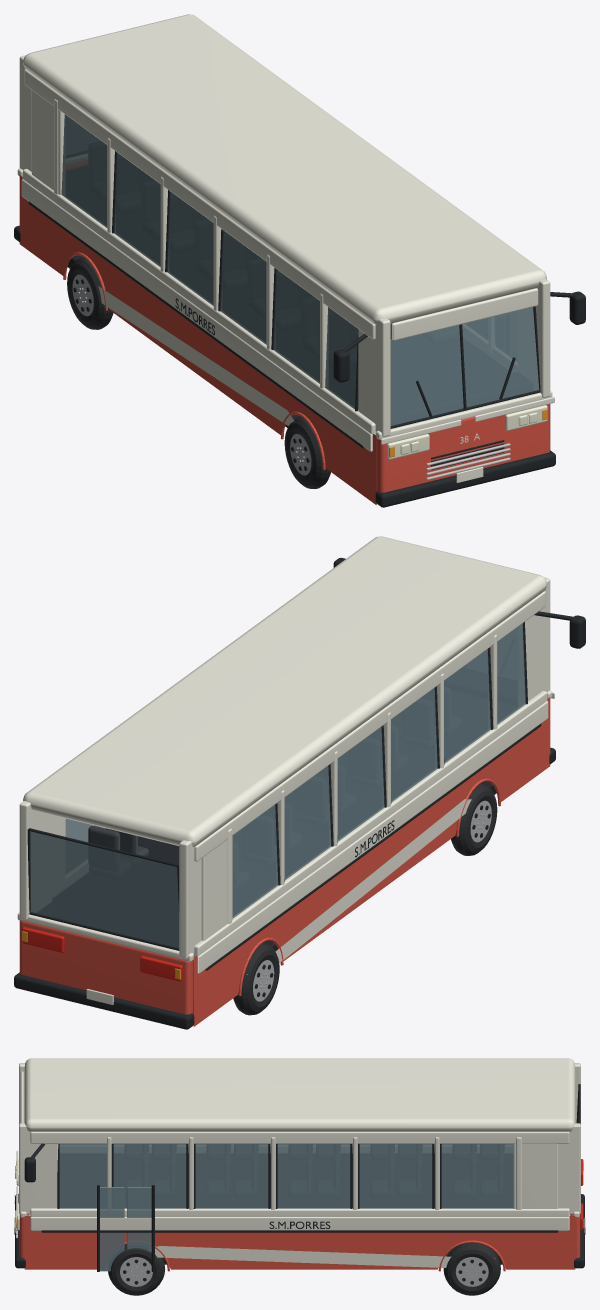
Rendered from urban_bus.glb.
3 views of the same model, one above another, from view 1: azimuth 30°, elevation 25°; view 2: azimuth 150°, elevation 25°; view 3: azimuth 270°, elevation 25° (orthographic). The views are drawn at different scales.
Visible parts, largest first — view 1: Placa, Cristal real, Chapa lateral, Bastidor, Torus.012, Torus.014, Faro delantero, Lamina de parrilla; view 2: Placa, Cristal real, Chapa lateral, Bastidor, Torus.014, Torus.012, Faro trasero, Asiento; view 3: Placa, Cristal real, Chapa lateral, Bastidor, Torus.015, Torus.013, Cylinder.008, Cylinder.007.
Boxes of the visible parts, box(x1,y1,x2,y2) form: Placa: box(17, 14, 554, 482); Cristal real: box(61, 114, 539, 425); Chapa lateral: box(19, 175, 550, 504); Bastidor: box(14, 151, 585, 507); Torus.012: box(284, 416, 330, 488); Torus.014: box(67, 257, 113, 329); Faro delantero: box(387, 405, 547, 459); Lamina de parrilla: box(426, 443, 510, 479); Placa: box(17, 536, 554, 1004); Cristal real: box(30, 623, 525, 947); Chapa lateral: box(19, 697, 550, 1026); Bastidor: box(14, 557, 585, 1029); Torus.014: box(233, 942, 279, 1015); Torus.012: box(451, 783, 497, 855); Faro trasero: box(22, 927, 182, 981); Asiento: box(88, 826, 149, 856); Placa: box(14, 1058, 585, 1267); Cristal real: box(59, 1115, 578, 1271); Chapa lateral: box(19, 1214, 580, 1271); Bastidor: box(15, 1084, 584, 1271); Torus.015: box(443, 1242, 500, 1295); Torus.013: box(108, 1244, 164, 1295); Cylinder.008: box(455, 1257, 488, 1286); Cylinder.007: box(120, 1257, 152, 1286).
Bounding box in the file's own units: 3.54 × 3.1 × 9.17.
